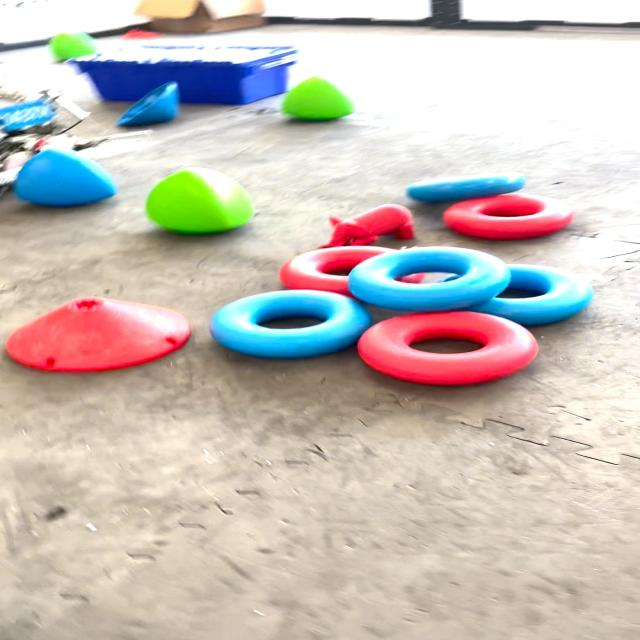Blue-Ring: (211, 290, 371, 359), (349, 246, 511, 311), (469, 264, 593, 325), (407, 171, 527, 201)
Red-Ring: (358, 311, 538, 385), (442, 194, 573, 239), (280, 246, 392, 297)
